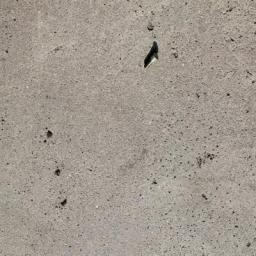FOD: (143, 44, 162, 71)
